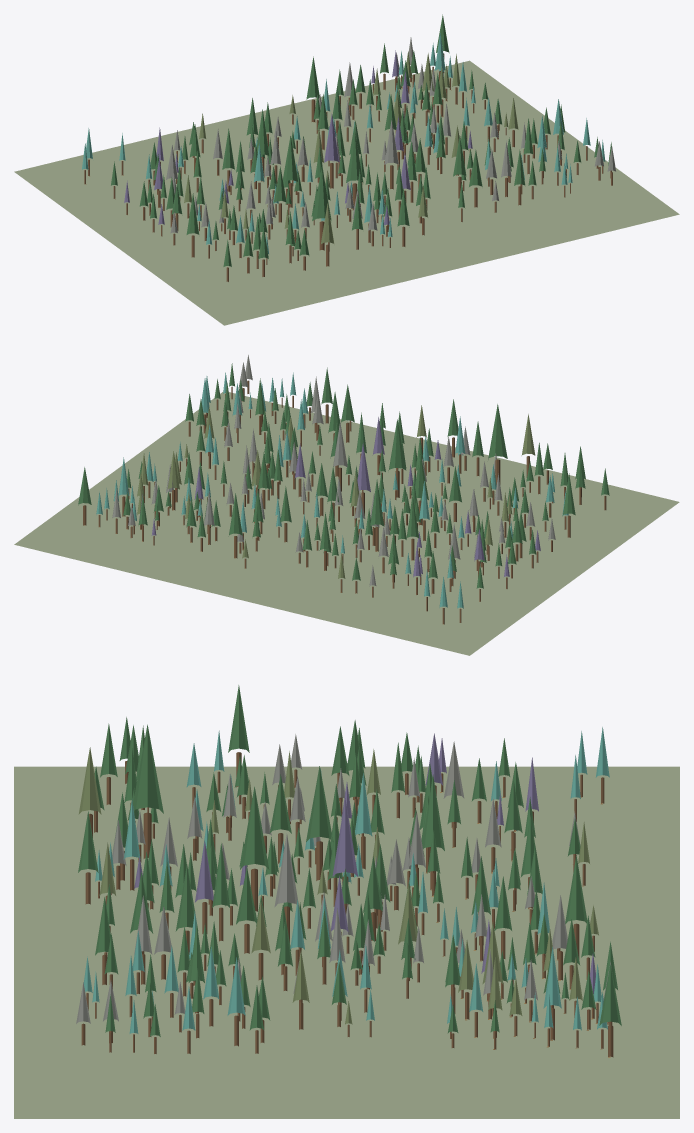
The picture shows the model from 3 angles, top to bottom: view 1: azimuth 30°, elevation 25°; view 2: azimuth 150°, elevation 25°; view 3: azimuth 270°, elevation 25°; orthographic projection. The views are drawn at different scales.
Parts seen in each view (by area): view 1: ground, tree:T00792, tree:T00628, tree:T00458, tree:T00488; view 2: ground, tree:T00792, tree:T00628, tree:T00284; view 3: ground, tree:T00792, tree:T00628, tree:T00488, tree:T00458, tree:T00564, tree:T00055, tree:T00284, tree:T00034, tree:T00900, tree:T00893, tree:T00613 (+12 smaller).
Boxes of the visible parts, x1=… form: ground: x1=14, y1=60, x2=679, y2=325; tree:T00792: x1=312, y1=166, x2=331, y2=250; tree:T00628: x1=346, y1=132, x2=363, y2=210; tree:T00458: x1=324, y1=113, x2=339, y2=188; tree:T00488: x1=283, y1=136, x2=298, y2=207; ground: x1=14, y1=392, x2=679, y2=655; tree:T00792: x1=488, y1=404, x2=507, y2=484; tree:T00628: x1=388, y1=419, x2=406, y2=497; tree:T00284: x1=369, y1=479, x2=384, y2=551; ground: x1=14, y1=766, x2=679, y2=1118; tree:T00792: x1=133, y1=724, x2=163, y2=858; tree:T00628: x1=240, y1=786, x2=269, y2=911; tree:T00488: x1=306, y1=766, x2=333, y2=880; tree:T00458: x1=332, y1=798, x2=358, y2=906; tree:T00564: x1=274, y1=833, x2=298, y2=942; tree:T00055: x1=565, y1=855, x2=587, y2=959; tree:T00284: x1=422, y1=774, x2=444, y2=889; tree:T00034: x1=599, y1=964, x2=621, y2=1057; tree:T00900: x1=78, y1=811, x2=98, y2=904; tree:T00893: x1=78, y1=747, x2=101, y2=837; tree:T00613: x1=228, y1=685, x2=249, y2=787.
Size of the model in its own units: 357 by 71.37 by 285.
